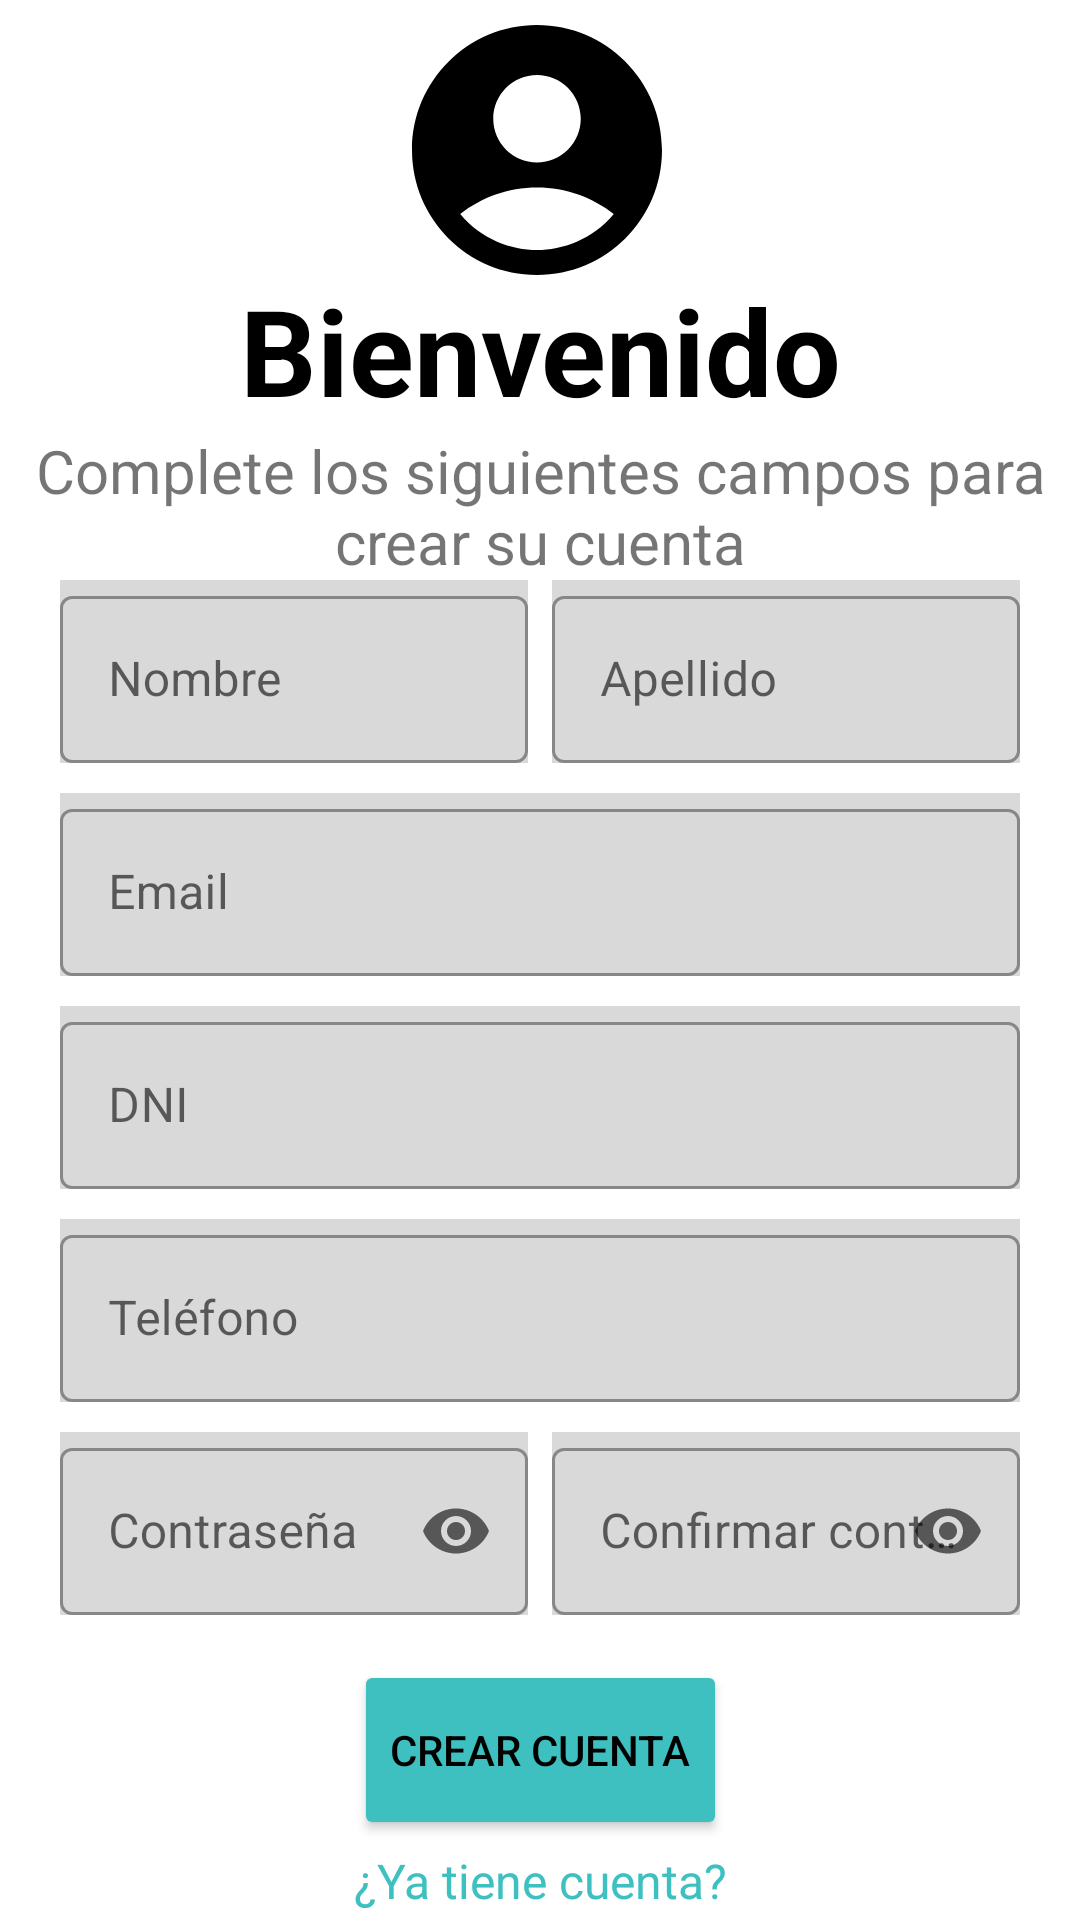

Icons on this 1080 × 1920 Android screen, each with its box as (x1,y1,x2,y2):
account circle: (412,25,662,275)
